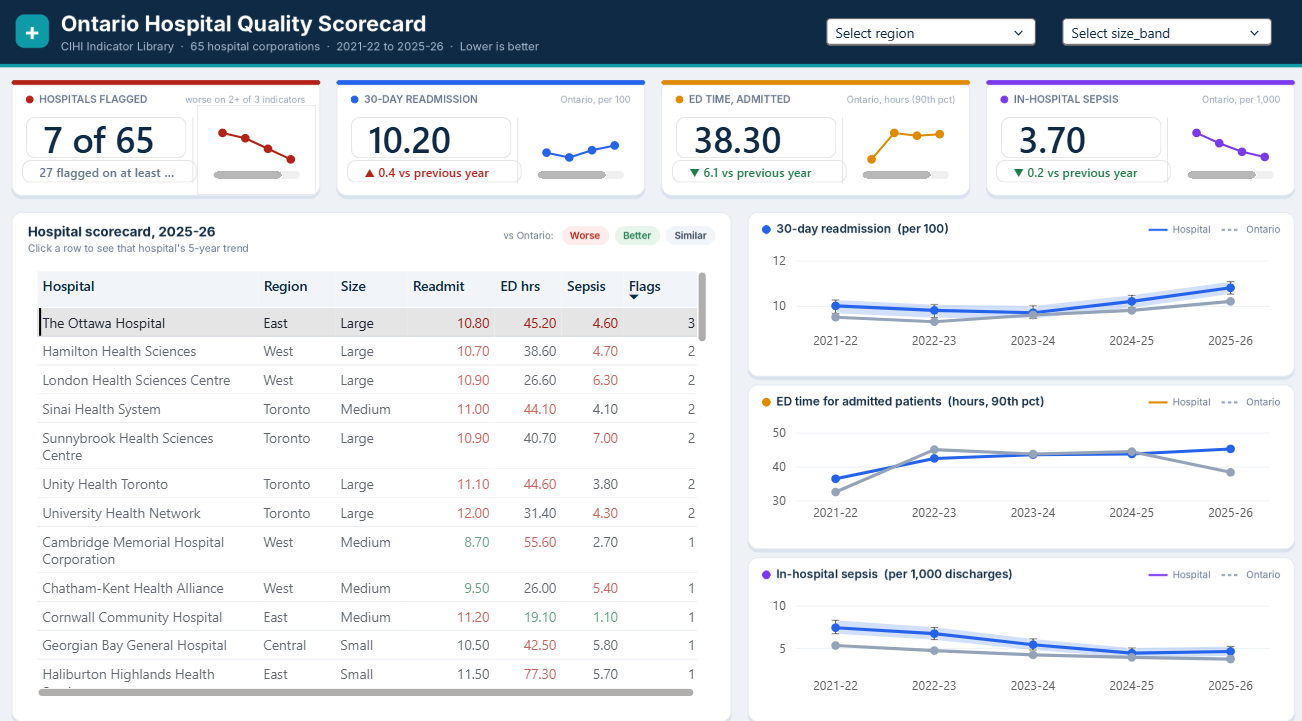

What the dashboard file says about the page in this screenshot:
{"tool":"powerbi","page":{"name":"Page 1","canvas":[1280,720],"ordinal":0},"visuals":[{"type":"cardVisual","fields":{"Data":["fact_scorecard.Flagged Value"]},"box":[30,116,156,40],"z":2000},{"type":"cardVisual","fields":{"Data":["fact_scorecard.Flagged Sub Label"]},"box":[26,158,170,22],"z":3000},{"type":"listSlicer","fields":{"Values":["dim_hospital.region"]},"box":[800,16,220,32],"z":4000},{"type":"lineChart","fields":{"Category":["dim_year.fiscal_year_label"],"Y":["fact_scorecard.Hospitals Flagged 2+"]},"box":[196,104,116,88],"z":4000},{"type":"listSlicer","fields":{"Values":["dim_hospital.size_band"]},"box":[1030,16,220,32],"z":5000},{"type":"cardVisual","fields":{"Data":["fact_scorecard.Ontario Value"]},"box":[346,116,156,40],"z":5000},{"type":"cardVisual","fields":{"Data":["fact_scorecard.Ontario Change Label"]},"box":[342,158,170,22],"z":6000},{"type":"tableEx","fields":{"Values":["dim_hospital.hospital_name","dim_hospital.region","dim_hospital.size_band","fact_scorecard.Readmission","fact_scorecard.ED Hours","fact_scorecard.Sepsis","fact_scorecard.Total Worse Flags"]},"box":[24,252,684,444],"z":6000},{"type":"lineChart","title":"30-day readmission (per 100)","fields":{"Category":["dim_year.fiscal_year_label"],"Y":["fact_scorecard.Hospital Line","fact_scorecard.Ontario Value"]},"box":[740,232,516,130],"z":6001},{"type":"lineChart","title":"ED time for admitted patients (hours, 90th percentile)","fields":{"Category":["dim_year.fiscal_year_label"],"Y":["fact_scorecard.Hospital Line","fact_scorecard.Ontario Value"]},"box":[740,400,516,130],"z":6002},{"type":"lineChart","title":"In-hospital sepsis (per 1,000 discharges)","fields":{"Category":["dim_year.fiscal_year_label"],"Y":["fact_scorecard.Hospital Line","fact_scorecard.Ontario Value"]},"box":[740,568,516,130],"z":6003},{"type":"lineChart","fields":{"Category":["dim_year.fiscal_year_label"],"Y":["fact_scorecard.Ontario Value"]},"box":[512,104,116,88],"z":7000},{"type":"cardVisual","fields":{"Data":["fact_scorecard.Ontario Value"]},"box":[662,116,156,40],"z":8000},{"type":"cardVisual","fields":{"Data":["fact_scorecard.Ontario Change Label"]},"box":[658,158,170,22],"z":9000},{"type":"lineChart","fields":{"Category":["dim_year.fiscal_year_label"],"Y":["fact_scorecard.Ontario Value"]},"box":[828,104,116,88],"z":10000},{"type":"cardVisual","fields":{"Data":["fact_scorecard.Ontario Value"]},"box":[978,116,156,40],"z":11000},{"type":"cardVisual","fields":{"Data":["fact_scorecard.Ontario Change Label"]},"box":[974,158,170,22],"z":12000},{"type":"lineChart","fields":{"Category":["dim_year.fiscal_year_label"],"Y":["fact_scorecard.Ontario Value"]},"box":[1144,104,116,88],"z":13000}]}

Visuals, with their boxes in screenshot pixels (x1, y1, x2, y2), scaled from the page's 1280x720 canvas onto the 1302x721 screenshot:
cardVisual - fact_scorecard.Flagged Value: rect(31, 116, 189, 156)
cardVisual - fact_scorecard.Flagged Sub Label: rect(26, 158, 199, 180)
listSlicer - dim_hospital.region: rect(814, 16, 1038, 48)
lineChart - dim_year.fiscal_year_label x fact_scorecard.Hospitals Flagged 2+: rect(199, 104, 317, 192)
listSlicer - dim_hospital.size_band: rect(1048, 16, 1271, 48)
cardVisual - fact_scorecard.Ontario Value: rect(352, 116, 511, 156)
cardVisual - fact_scorecard.Ontario Change Label: rect(348, 158, 521, 180)
tableEx - dim_hospital.hospital_name x dim_hospital.region: rect(24, 252, 720, 697)
"30-day readmission (per 100)" lineChart: rect(753, 232, 1278, 363)
"ED time for admitted patients (hours, 90th percentile)" lineChart: rect(753, 401, 1278, 531)
"In-hospital sepsis (per 1,000 discharges)" lineChart: rect(753, 569, 1278, 699)
lineChart - dim_year.fiscal_year_label x fact_scorecard.Ontario Value: rect(521, 104, 639, 192)
cardVisual - fact_scorecard.Ontario Value: rect(673, 116, 832, 156)
cardVisual - fact_scorecard.Ontario Change Label: rect(669, 158, 842, 180)
lineChart - dim_year.fiscal_year_label x fact_scorecard.Ontario Value: rect(842, 104, 960, 192)
cardVisual - fact_scorecard.Ontario Value: rect(995, 116, 1153, 156)
cardVisual - fact_scorecard.Ontario Change Label: rect(991, 158, 1164, 180)
lineChart - dim_year.fiscal_year_label x fact_scorecard.Ontario Value: rect(1164, 104, 1282, 192)
